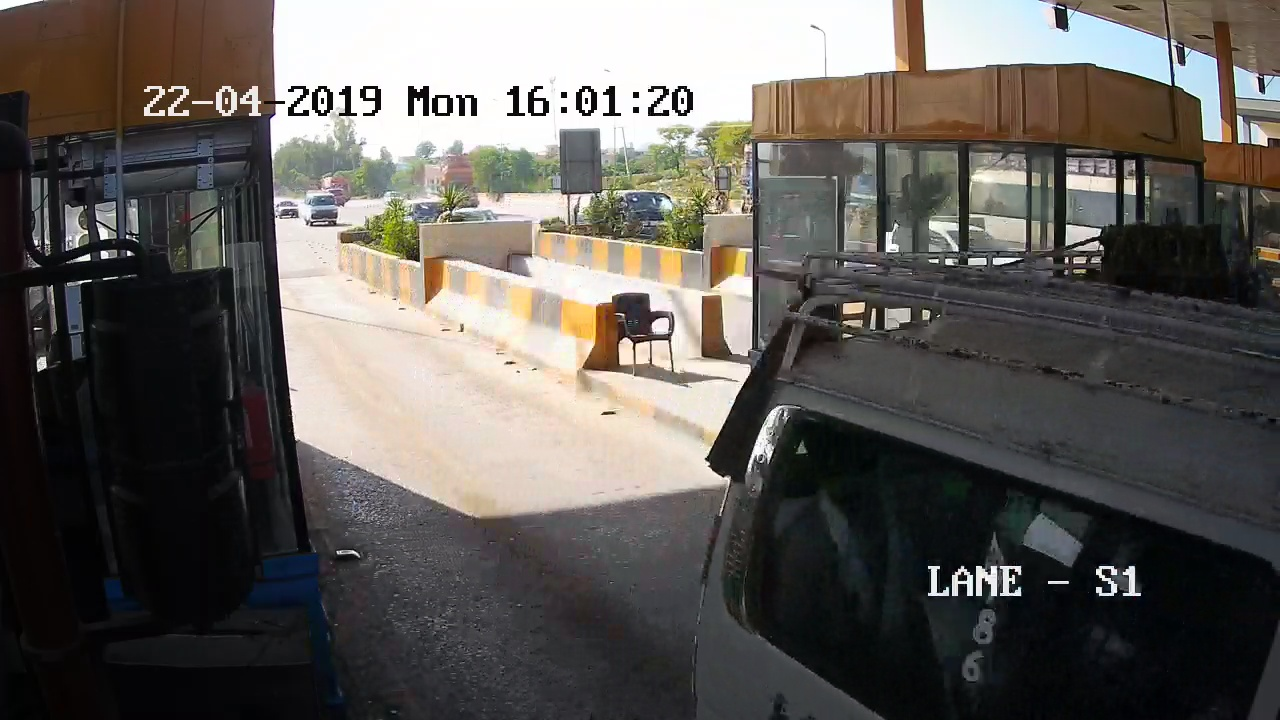car: (712, 298, 1280, 698)
